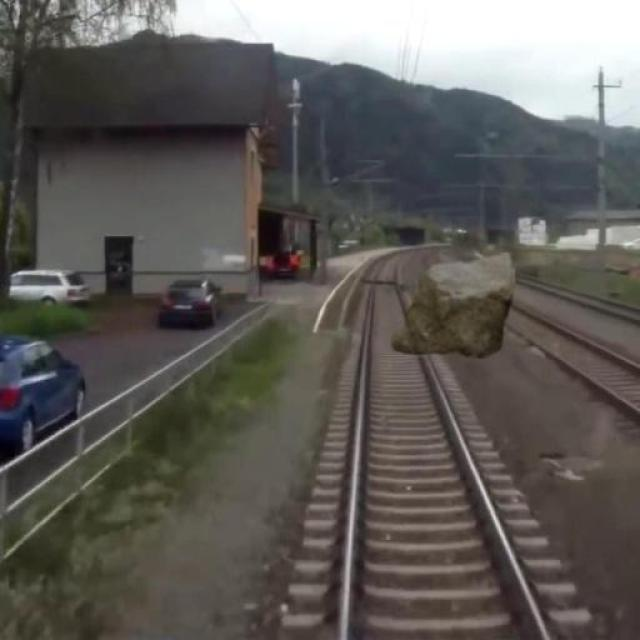Stone: (390, 250, 526, 364)
